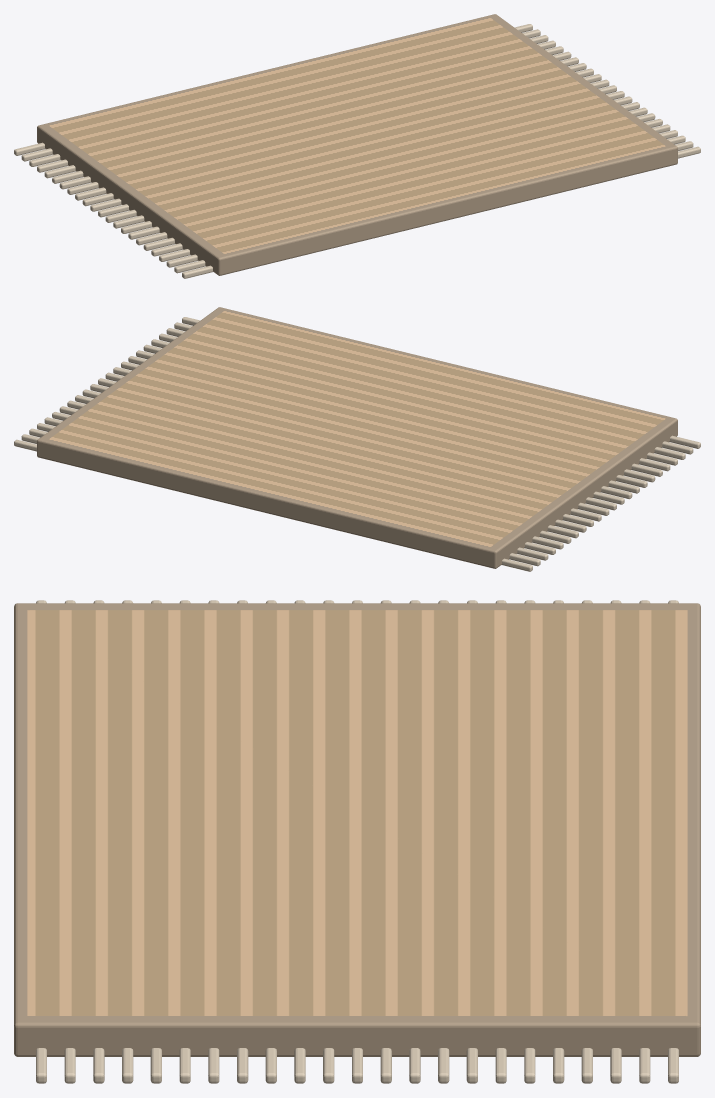
The model's file is doormat.glb.
3 views of the same model, one above another, from view 1: azimuth 30°, elevation 25°; view 2: azimuth 150°, elevation 25°; view 3: azimuth 270°, elevation 25° (orthographic). The views are drawn at different scales.
Visible parts, largest first — view 1: woven_mat; view 2: woven_mat; view 3: woven_mat.
Part boxes in pixels (box(x1,y1,x2,y2)): woven_mat: box(37, 14, 677, 275); woven_mat: box(37, 307, 677, 568); woven_mat: box(14, 603, 700, 1056).
Size of the model in its own units: 0.9 by 0.03 by 0.55.
2 materials, 1 textured.
